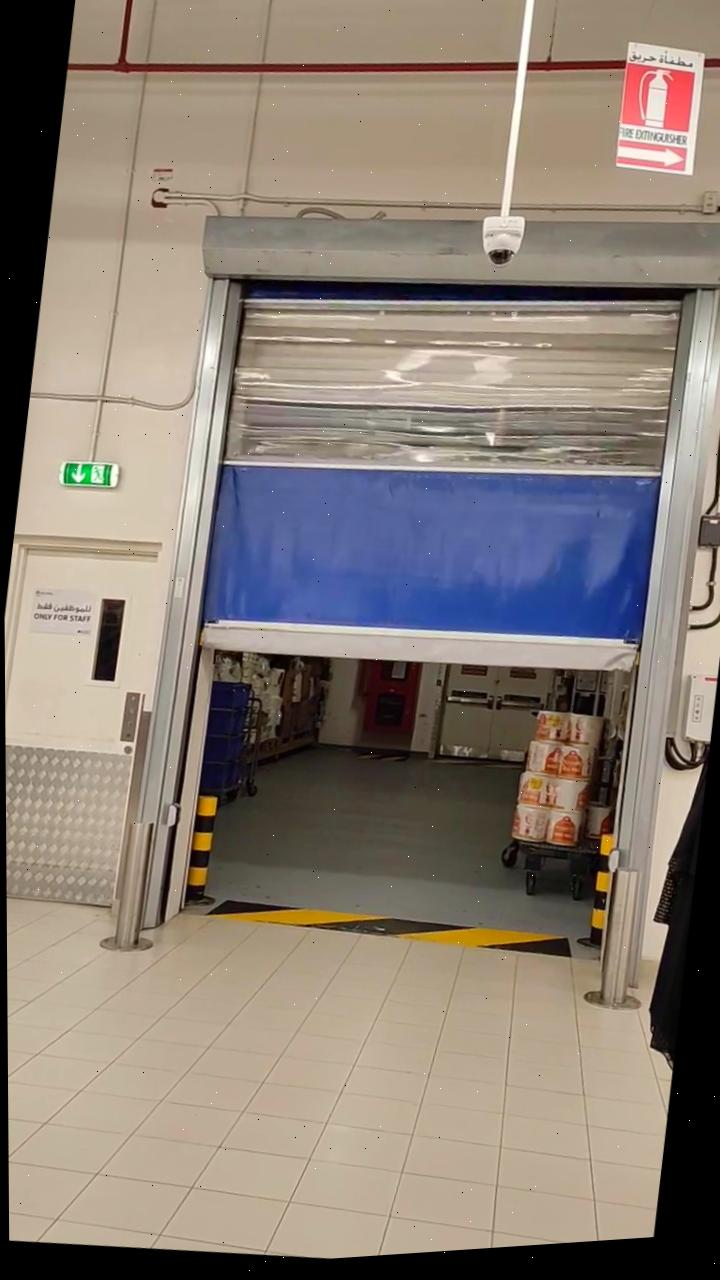Strip: (204, 869, 575, 988)
